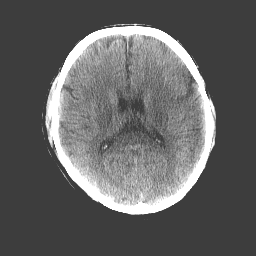ischemic: (160, 89, 193, 113), (192, 121, 197, 126)
